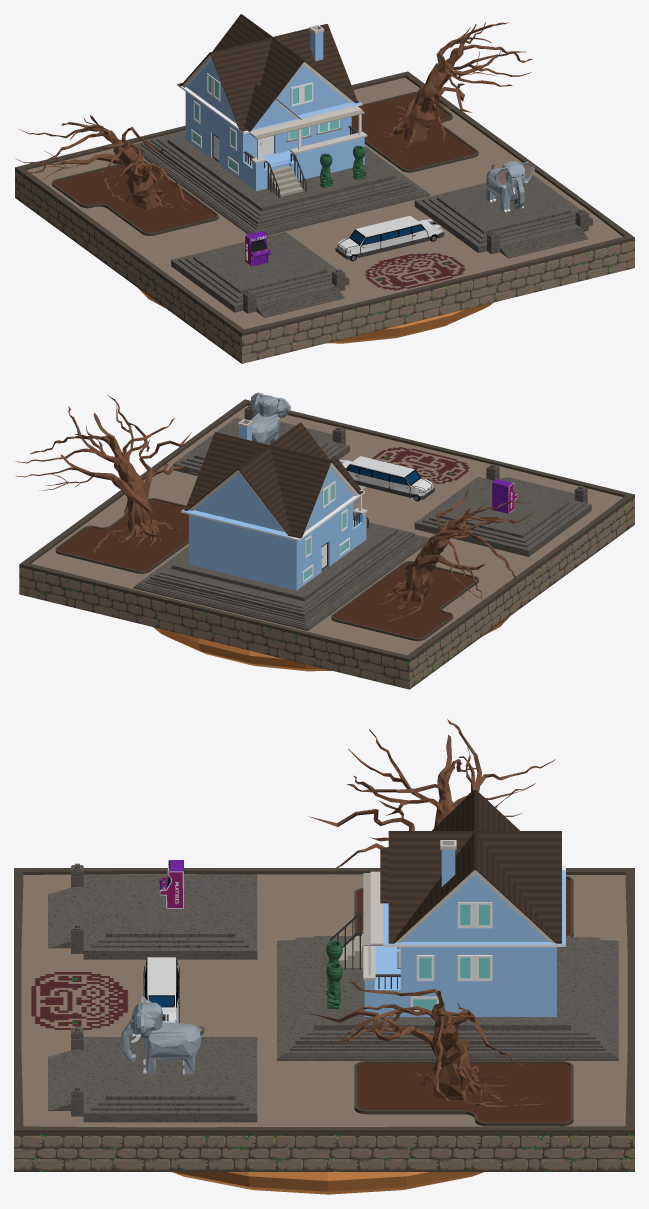
3 renders of one model, top to bottom at view 1: azimuth 30°, elevation 25°; view 2: azimuth 150°, elevation 25°; view 3: azimuth 270°, elevation 25°, orthographic. The views are drawn at different scales.
Parts seen in each view (by area): view 1: Cube.011, Cube.1594, VEHICLES_LIMOUSINE, ANIMAL_ELEFANTE, UNDERGROUND_PIZZA, OBJRANDOM_ARCADE; view 2: Cube.011, Cube.1594, VEHICLES_LIMOUSINE, UNDERGROUND_PIZZA, ANIMAL_ELEFANTE, OBJRANDOM_ARCADE; view 3: Cube.011, Cube.1594, UNDERGROUND_PIZZA, ANIMAL_ELEFANTE, VEHICLES_LIMOUSINE, OBJRANDOM_ARCADE.
Part boxes in pixels (left/top/right/bottom): Cube.011: left=15, top=22, right=634, bottom=363; Cube.1594: left=177, top=14, right=367, bottom=197; VEHICLES_LIMOUSINE: left=335, top=215, right=444, bottom=261; ANIMAL_ELEFANTE: left=486, top=161, right=534, bottom=212; UNDERGROUND_PIZZA: left=138, top=288, right=493, bottom=343; OBJRANDOM_ARCADE: left=245, top=230, right=270, bottom=266; Cube.011: left=15, top=395, right=634, bottom=689; Cube.1594: left=181, top=419, right=368, bottom=590; VEHICLES_LIMOUSINE: left=339, top=456, right=434, bottom=501; UNDERGROUND_PIZZA: left=153, top=616, right=509, bottom=671; ANIMAL_ELEFANTE: left=250, top=392, right=290, bottom=443; OBJRANDOM_ARCADE: left=492, top=478, right=517, bottom=513; Cube.011: left=14, top=719, right=634, bottom=1171; Cube.1594: left=330, top=789, right=565, bottom=1016; UNDERGROUND_PIZZA: left=171, top=1172, right=483, bottom=1194; ANIMAL_ELEFANTE: left=121, top=996, right=204, bottom=1074; VEHICLES_LIMOUSINE: left=143, top=957, right=179, bottom=1022; OBJRANDOM_ARCADE: left=159, top=860, right=183, bottom=908.
Size of the model in its own units: 5099 by 1872 by 4000.
46 materials, 5 textured.
